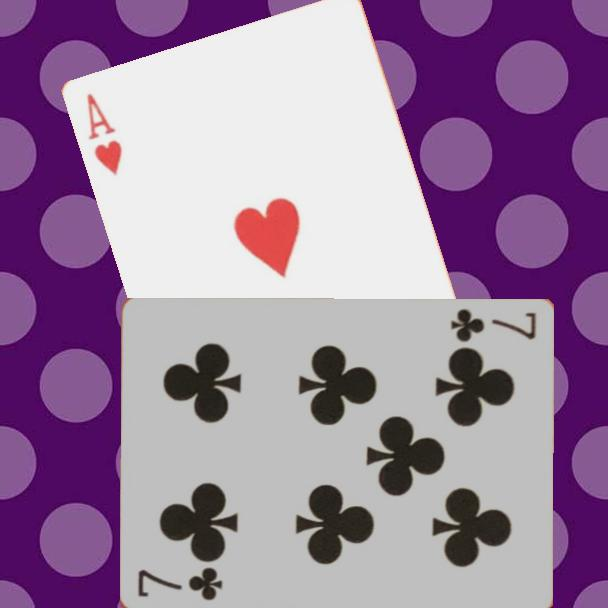c07: (134, 563, 226, 603), (448, 305, 540, 344)
h01: (83, 90, 126, 179)
